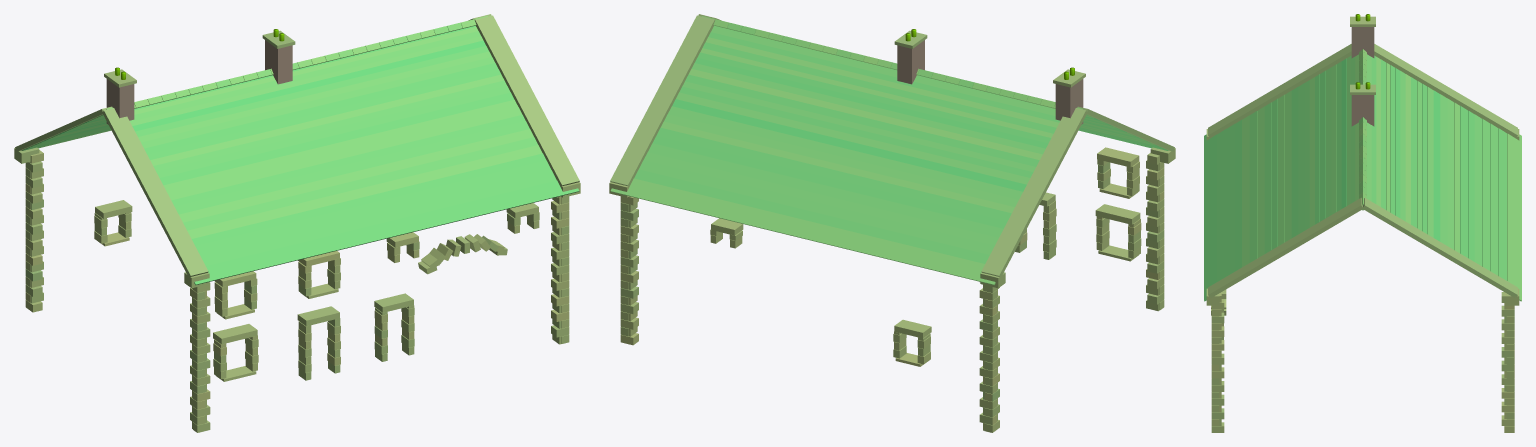
Rendered from SM_Bld_078_Stone.glb.
3 renders of one model, left to right at view 1: azimuth 30°, elevation 25°; view 2: azimuth 150°, elevation 25°; view 3: azimuth 270°, elevation 25°, orthographic. The views are drawn at different scales.
Visible parts, largest first — view 1: SM_Bld_078_Stone; view 2: SM_Bld_078_Stone; view 3: SM_Bld_078_Stone.
Part boxes in pixels (x1=…): SM_Bld_078_Stone: x1=14, y1=14, x2=580, y2=432; SM_Bld_078_Stone: x1=609, y1=14, x2=1175, y2=432; SM_Bld_078_Stone: x1=1204, y1=14, x2=1521, y2=432.
Bounding box in the file's own units: 15.72 × 11.47 × 12.61.
